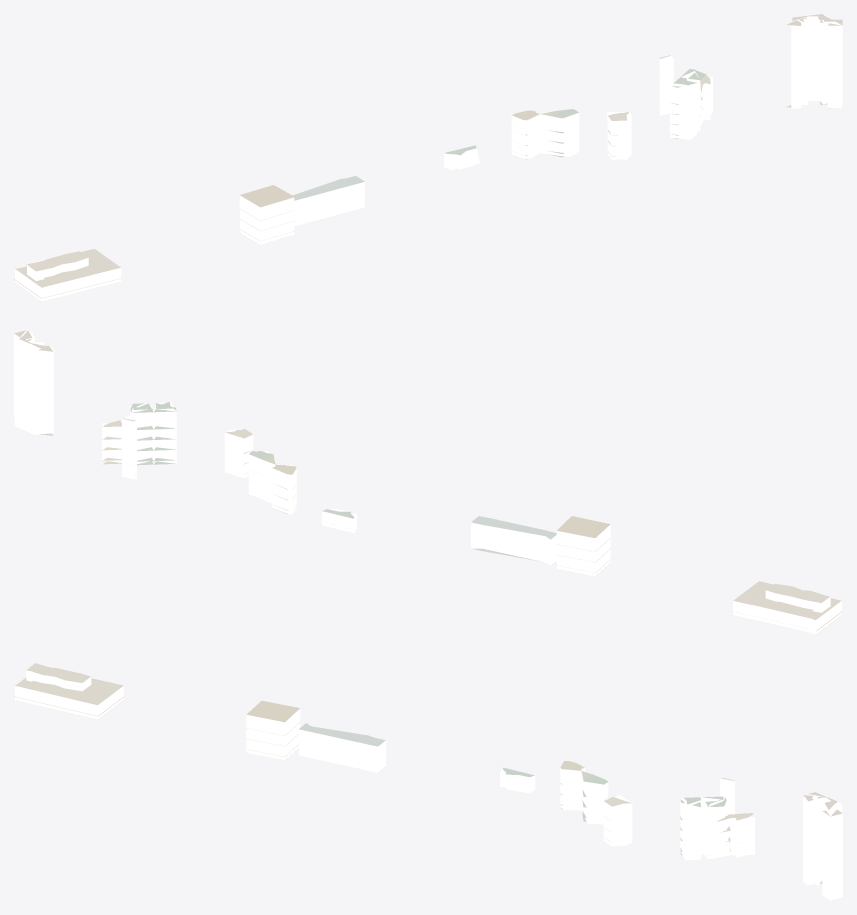
Rendered from buildings-3_4-coarse.glb.
The picture shows the model from 3 angles, top to bottom: view 1: azimuth 30°, elevation 25°; view 2: azimuth 150°, elevation 25°; view 3: azimuth 330°, elevation 25°; orthographic projection. The views are drawn at different scales.
Visible parts, largest first — view 1: block_3_4_residential, block_3_4_office, block_3_4_roof; view 2: block_3_4_residential, block_3_4_office, block_3_4_roof; view 3: block_3_4_residential, block_3_4_office, block_3_4_roof.
Part boxes in pixels (box(x1,y1,x2,y2)): block_3_4_residential: box(15, 55, 712, 301); block_3_4_office: box(294, 14, 842, 226); block_3_4_roof: box(14, 14, 842, 301); block_3_4_residential: box(102, 402, 841, 634); block_3_4_office: box(14, 330, 556, 565); block_3_4_roof: box(14, 330, 842, 634); block_3_4_residential: box(15, 665, 754, 860); block_3_4_office: box(298, 729, 842, 900); block_3_4_roof: box(14, 663, 842, 900).
Size of the model in its own units: 654 by 66.16 by 55.11.
